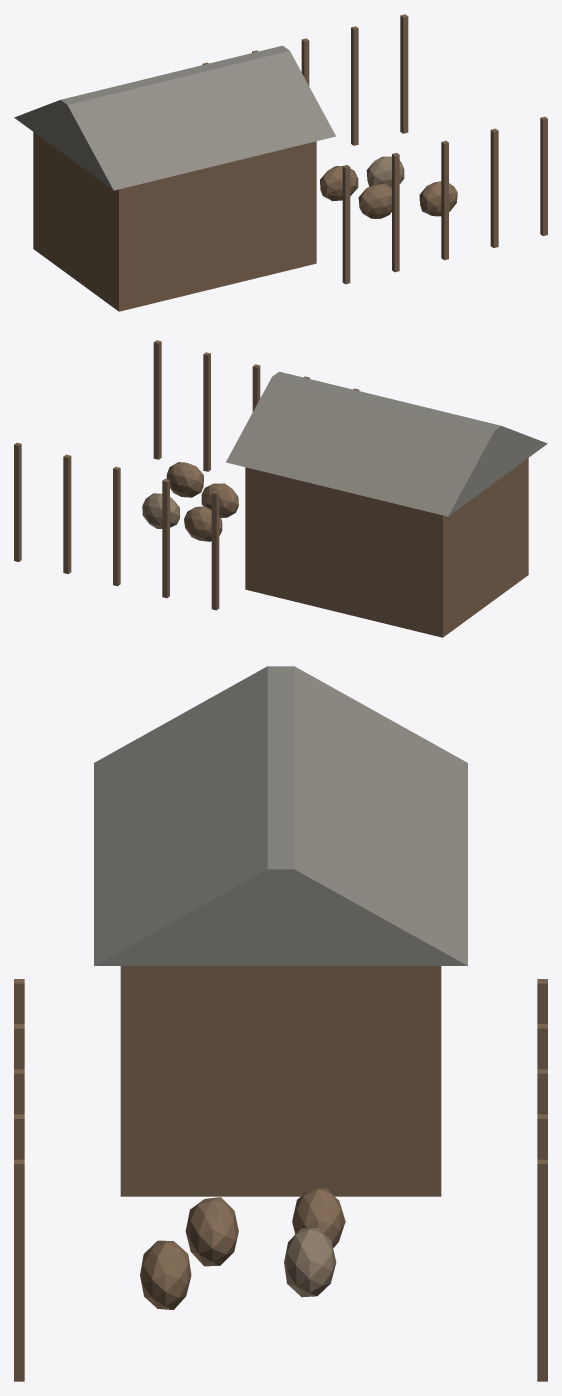
The model's file is tavuk-kumesi.glb.
The picture shows the model from 3 angles, top to bottom: view 1: azimuth 30°, elevation 25°; view 2: azimuth 150°, elevation 25°; view 3: azimuth 270°, elevation 25°; orthographic projection. The views are drawn at different scales.
Visible parts, largest first — view 1: ahsap, sac, kabuk; view 2: ahsap, sac, kabuk; view 3: sac, ahsap, kabuk.
Boxes of the visible parts, left/top/right/bottom form: ahsap: left=33, top=14, right=547, bottom=311; sac: left=14, top=45, right=335, bottom=190; kabuk: left=366, top=156, right=404, bottom=187; ahsap: left=14, top=340, right=528, bottom=637; sac: left=226, top=371, right=547, bottom=516; kabuk: left=142, top=493, right=179, bottom=528; sac: left=94, top=666, right=467, bottom=965; ahsap: left=14, top=966, right=547, bottom=1381; kabuk: left=284, top=1228, right=336, bottom=1297.
Size of the model in its own units: 3.34 by 1.4 by 2.
